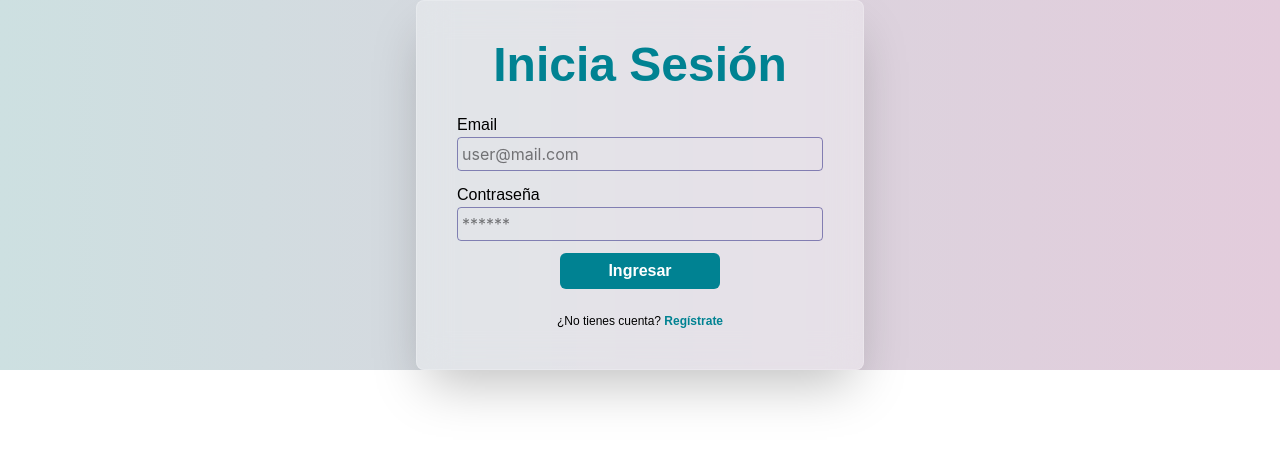
Test: Componente Login › debe mostrar mensaje de error al enviar formulario vacío
This screenshot has width=1280, height=463.
Click the button "Ingresar". click: (640, 271)
box: top-left (560, 253), bottom-right (720, 289)
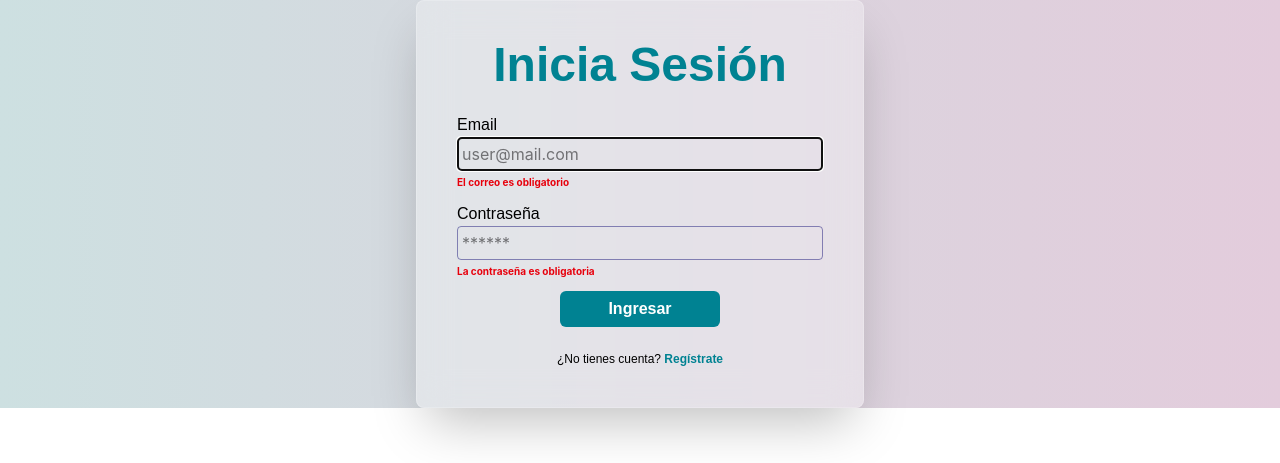
Check: the text "El correo es obligatorio" is shown, box top-left (457, 176), bottom-right (569, 188)
Check: the text "La contraseña es obligatoria" is shown, box top-left (457, 265), bottom-right (595, 277)
